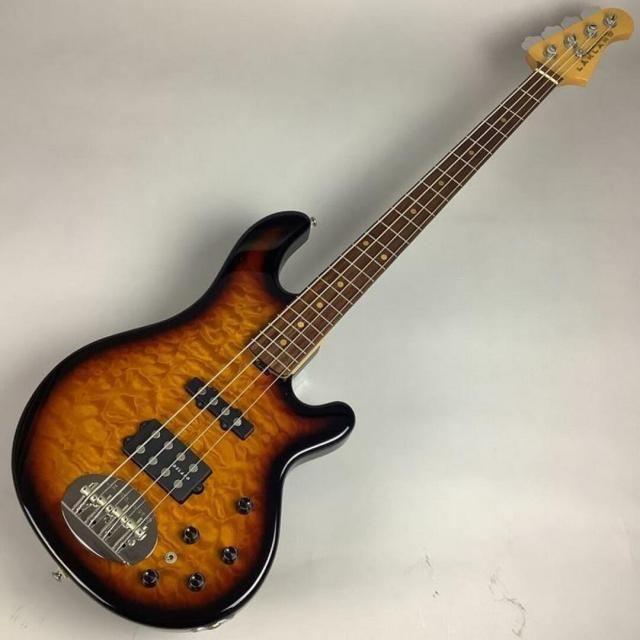bass: (13, 9, 632, 627)
